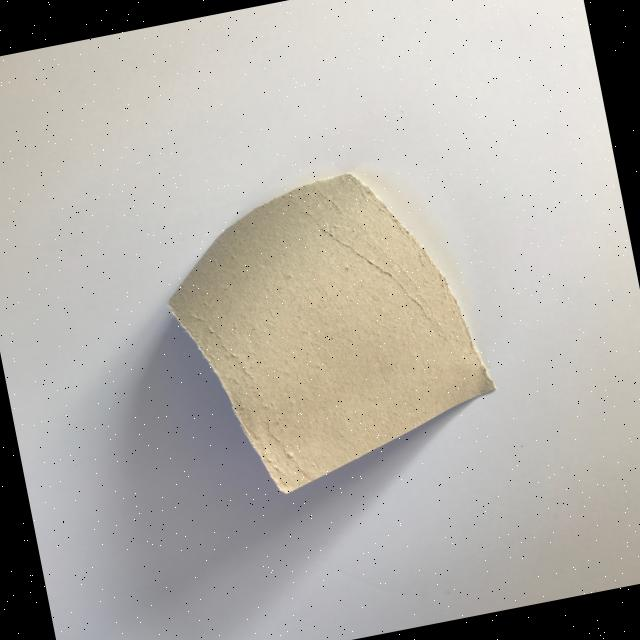paper: (148, 152, 509, 509)
